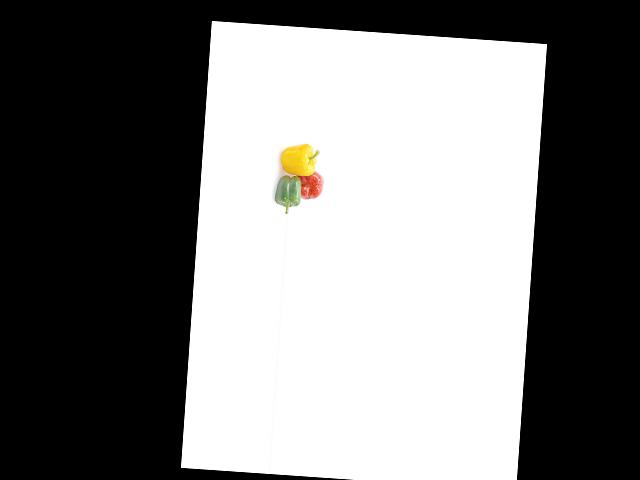bell_pepper: (273, 167, 306, 212)
